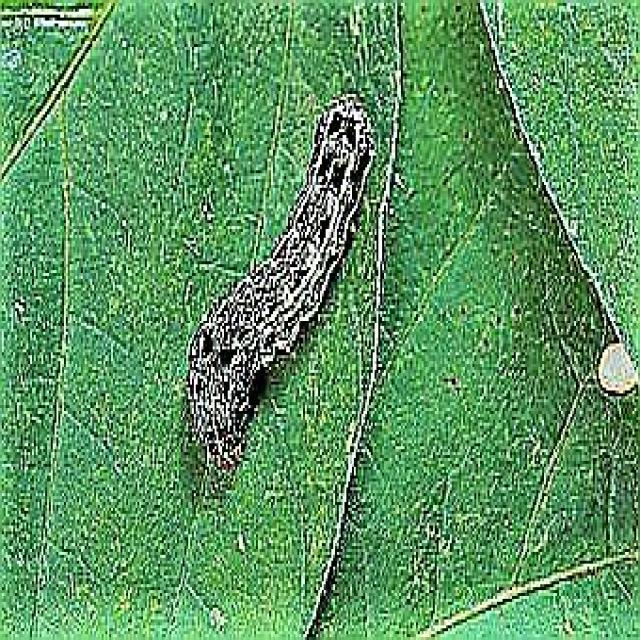Armyworm: (178, 81, 371, 491)
